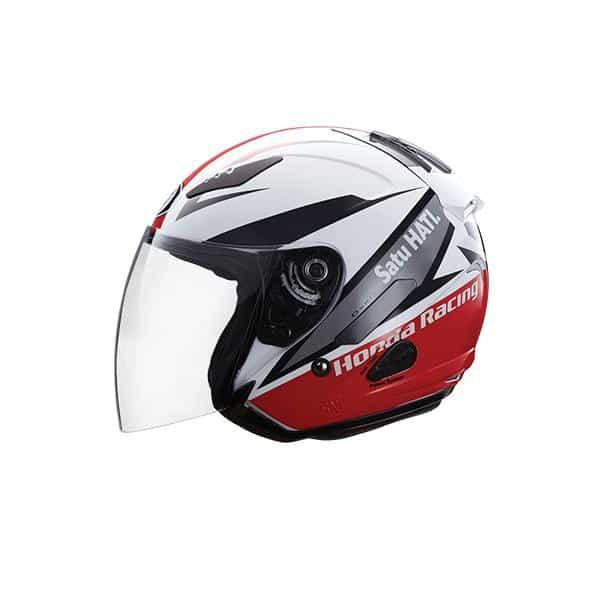helmet: (100, 114, 487, 446)
